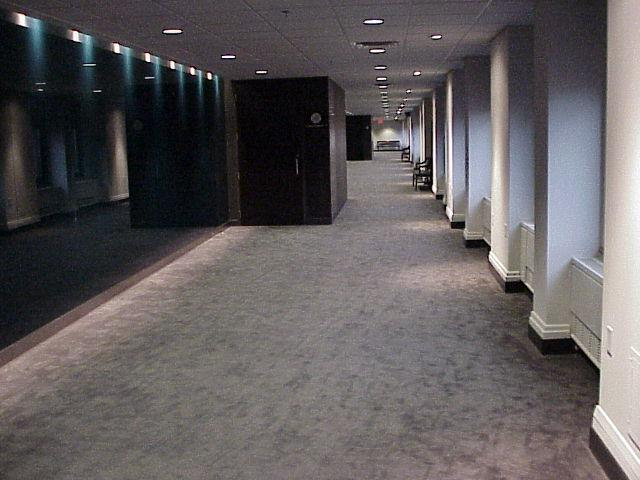Puerta: (236, 104, 307, 226)
